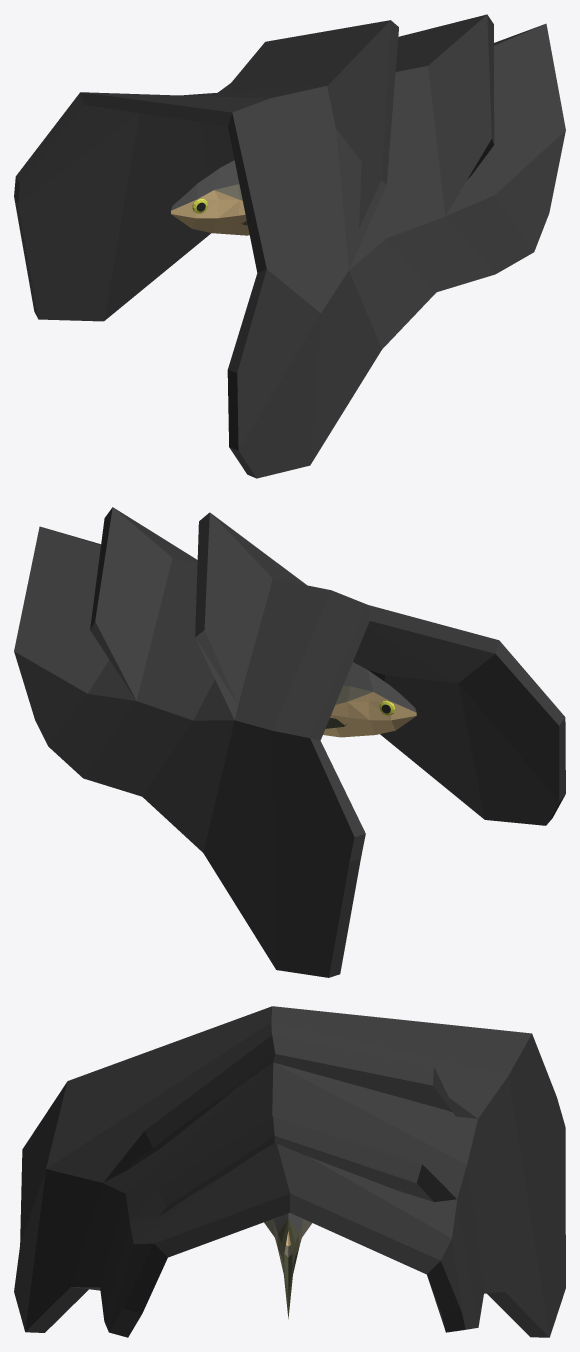
Rendered from Azurine.fbx.
3 views of the same model, one above another, from view 1: azimuth 30°, elevation 25°; view 2: azimuth 150°, elevation 25°; view 3: azimuth 270°, elevation 25° (orthographic). The views are drawn at different scales.
Parts seen in each view (by area): view 1: Pauldron, Cylinder; view 2: Pauldron, Cylinder; view 3: Pauldron, Cylinder.
Boxes of the visible parts, x1,y1,x2,y2 form: Pauldron: (14,14,565,478); Cylinder: (171,160,249,235); Pauldron: (14,507,565,977); Cylinder: (323,662,416,737); Pauldron: (14,1006,565,1337); Cylinder: (264,1213,311,1318).
Bounding box in the file's own units: 0.3044 × 0.2263 × 0.2746.
